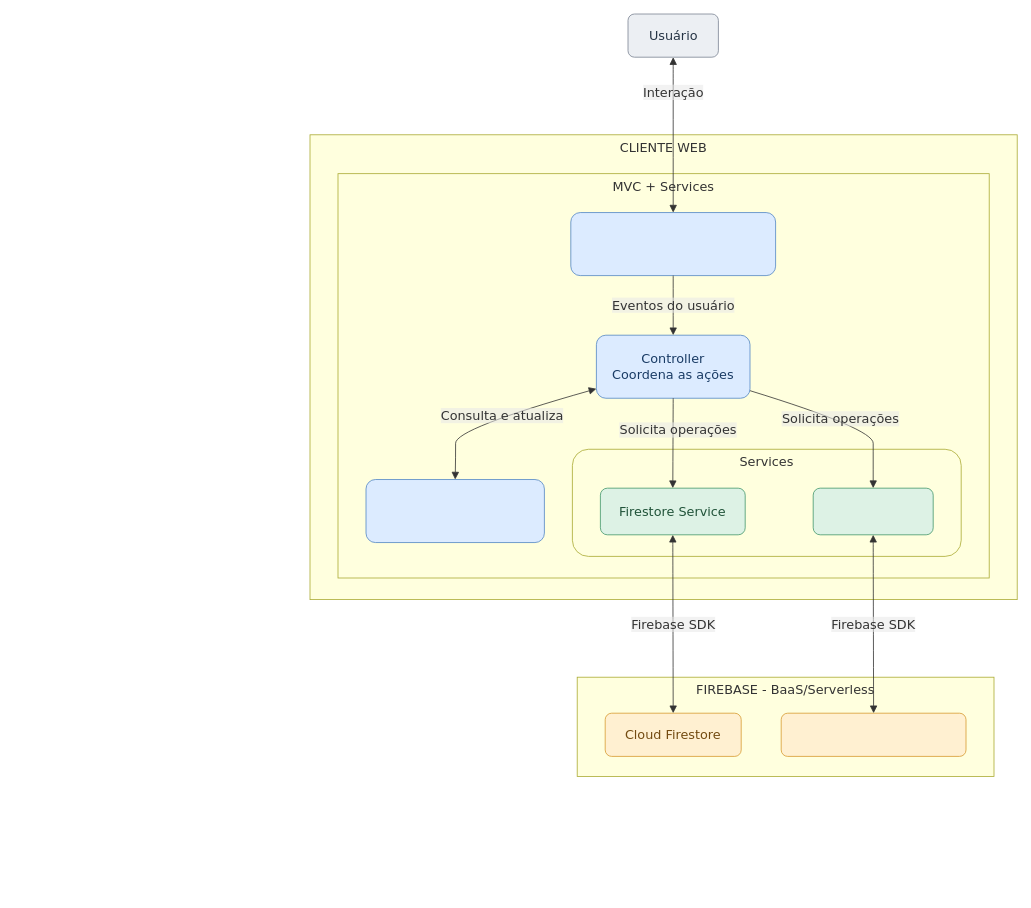
Image size: 1031x908. Some labels were removed from this diagram. Each missing label, with the centre of its shape:
"Auth Service" goes at [872,511].
"Firebase Authentication" goes at [873,734].
"Model Dados, estado e regras" goes at [454,511].
"View React, HTML, CSS e p5.js / Canvas" goes at [673,244].
